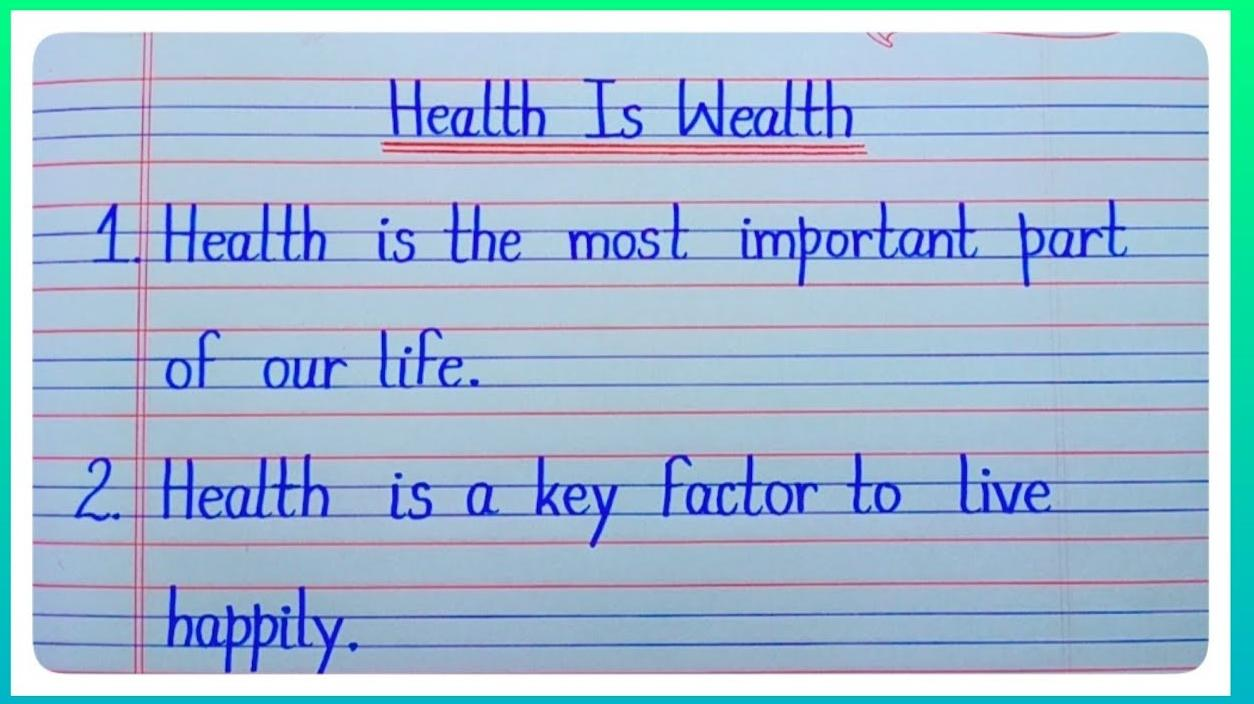text: (69, 448, 1057, 552), (87, 195, 1133, 292), (385, 74, 858, 140), (162, 323, 484, 394), (161, 583, 359, 675)
